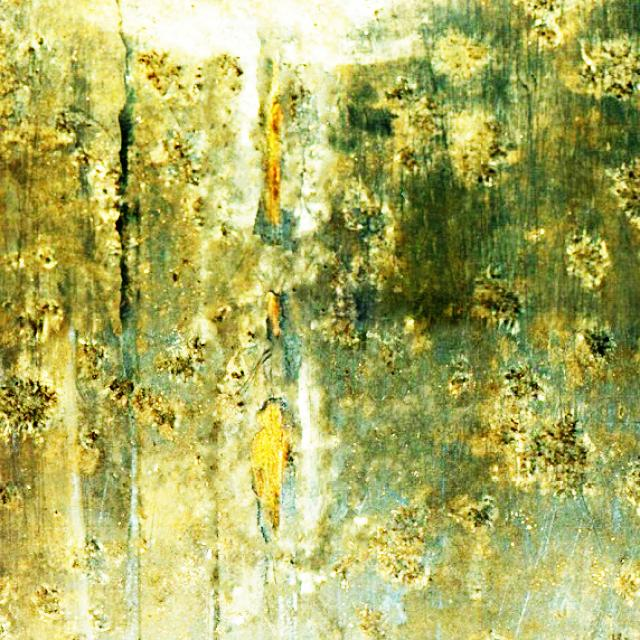Corrosion: (249, 398, 287, 540), (263, 97, 284, 228), (268, 291, 282, 337)
